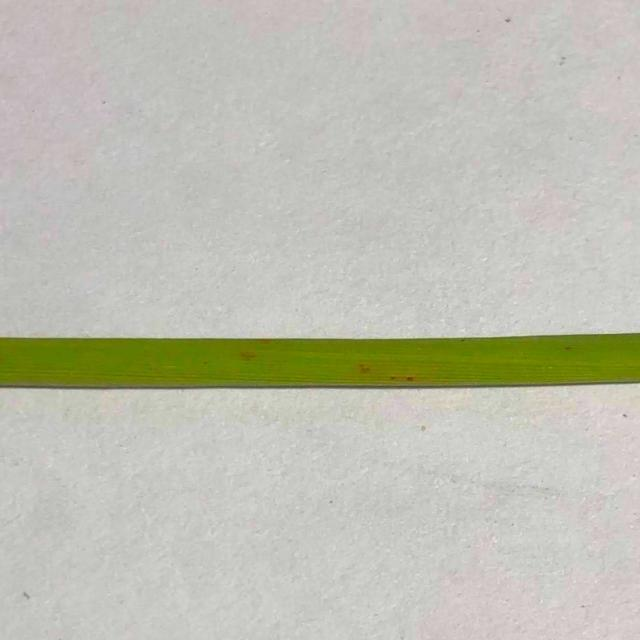brownspots: (348, 357, 428, 382), (229, 346, 269, 370)
